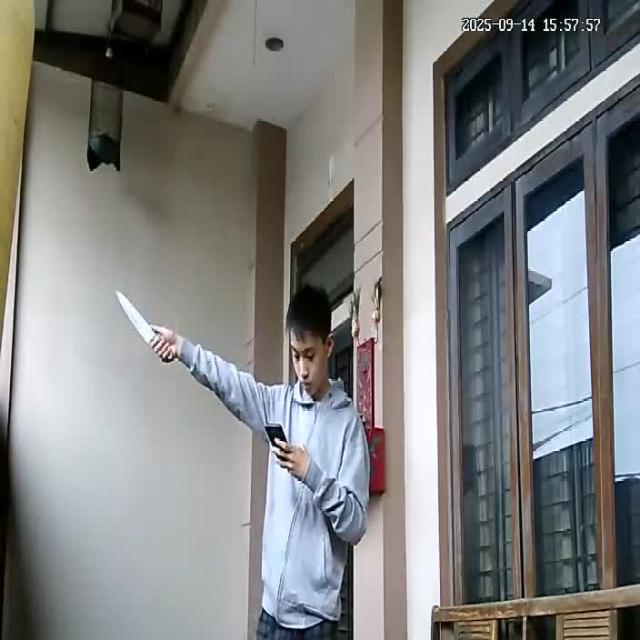senjata_tajam: (115, 288, 156, 344)
